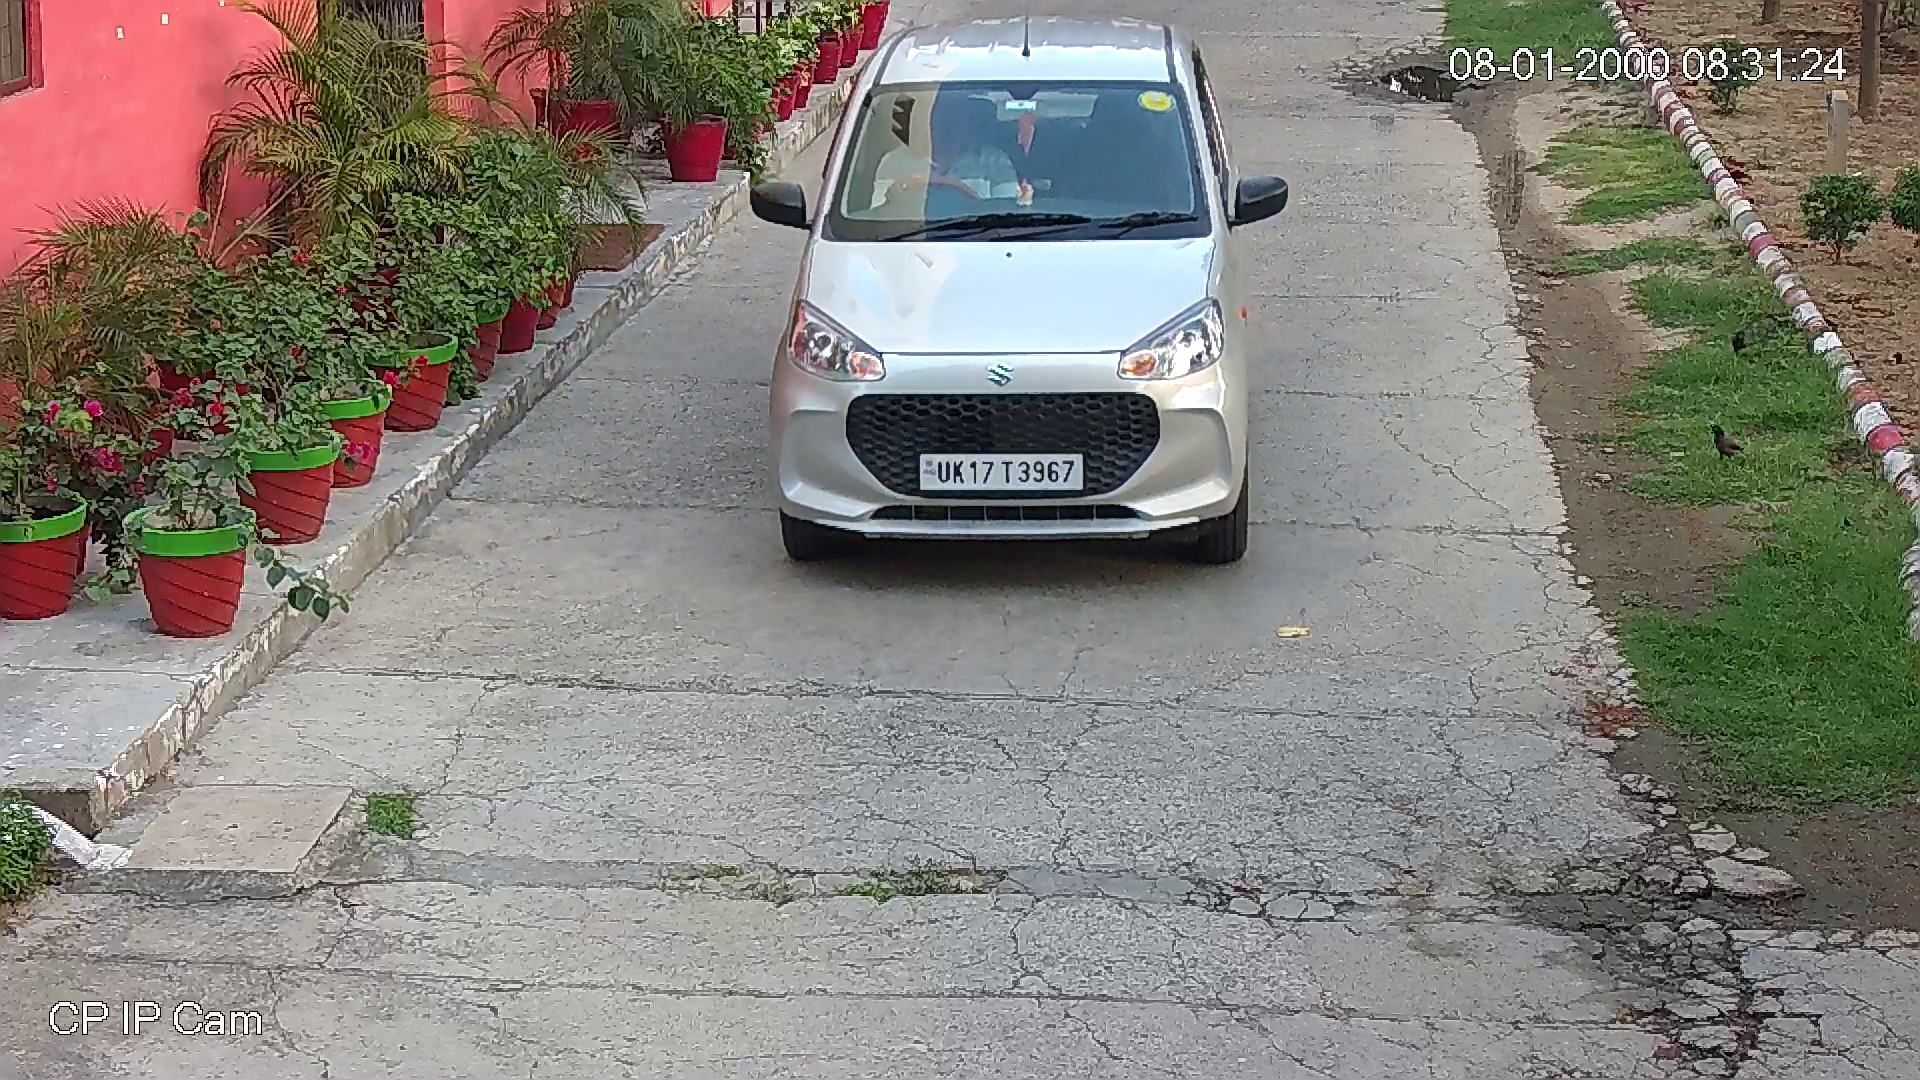plate: (916, 451, 1085, 492)
